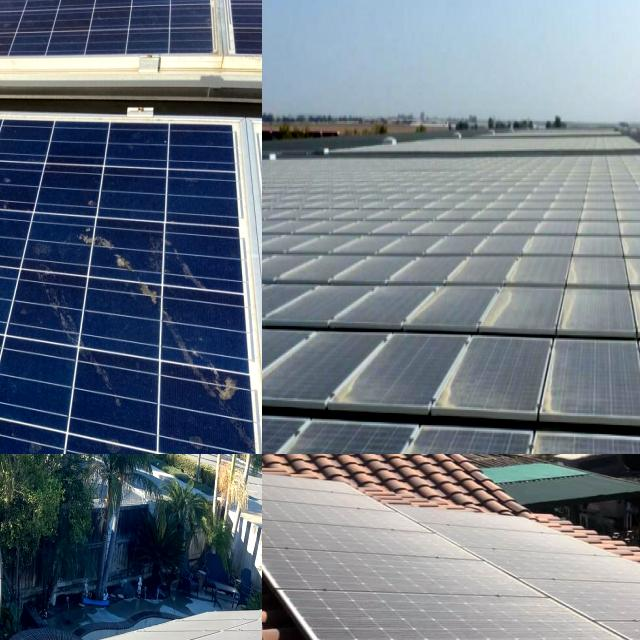bird: (70, 211, 171, 343), (0, 136, 51, 298), (180, 357, 250, 418)
dust: (316, 588, 618, 640), (314, 272, 410, 412), (534, 271, 618, 425), (434, 285, 524, 423), (276, 545, 492, 585), (485, 179, 590, 258), (367, 179, 463, 258), (262, 172, 344, 252), (262, 492, 391, 529), (262, 288, 303, 389), (622, 179, 640, 277)
